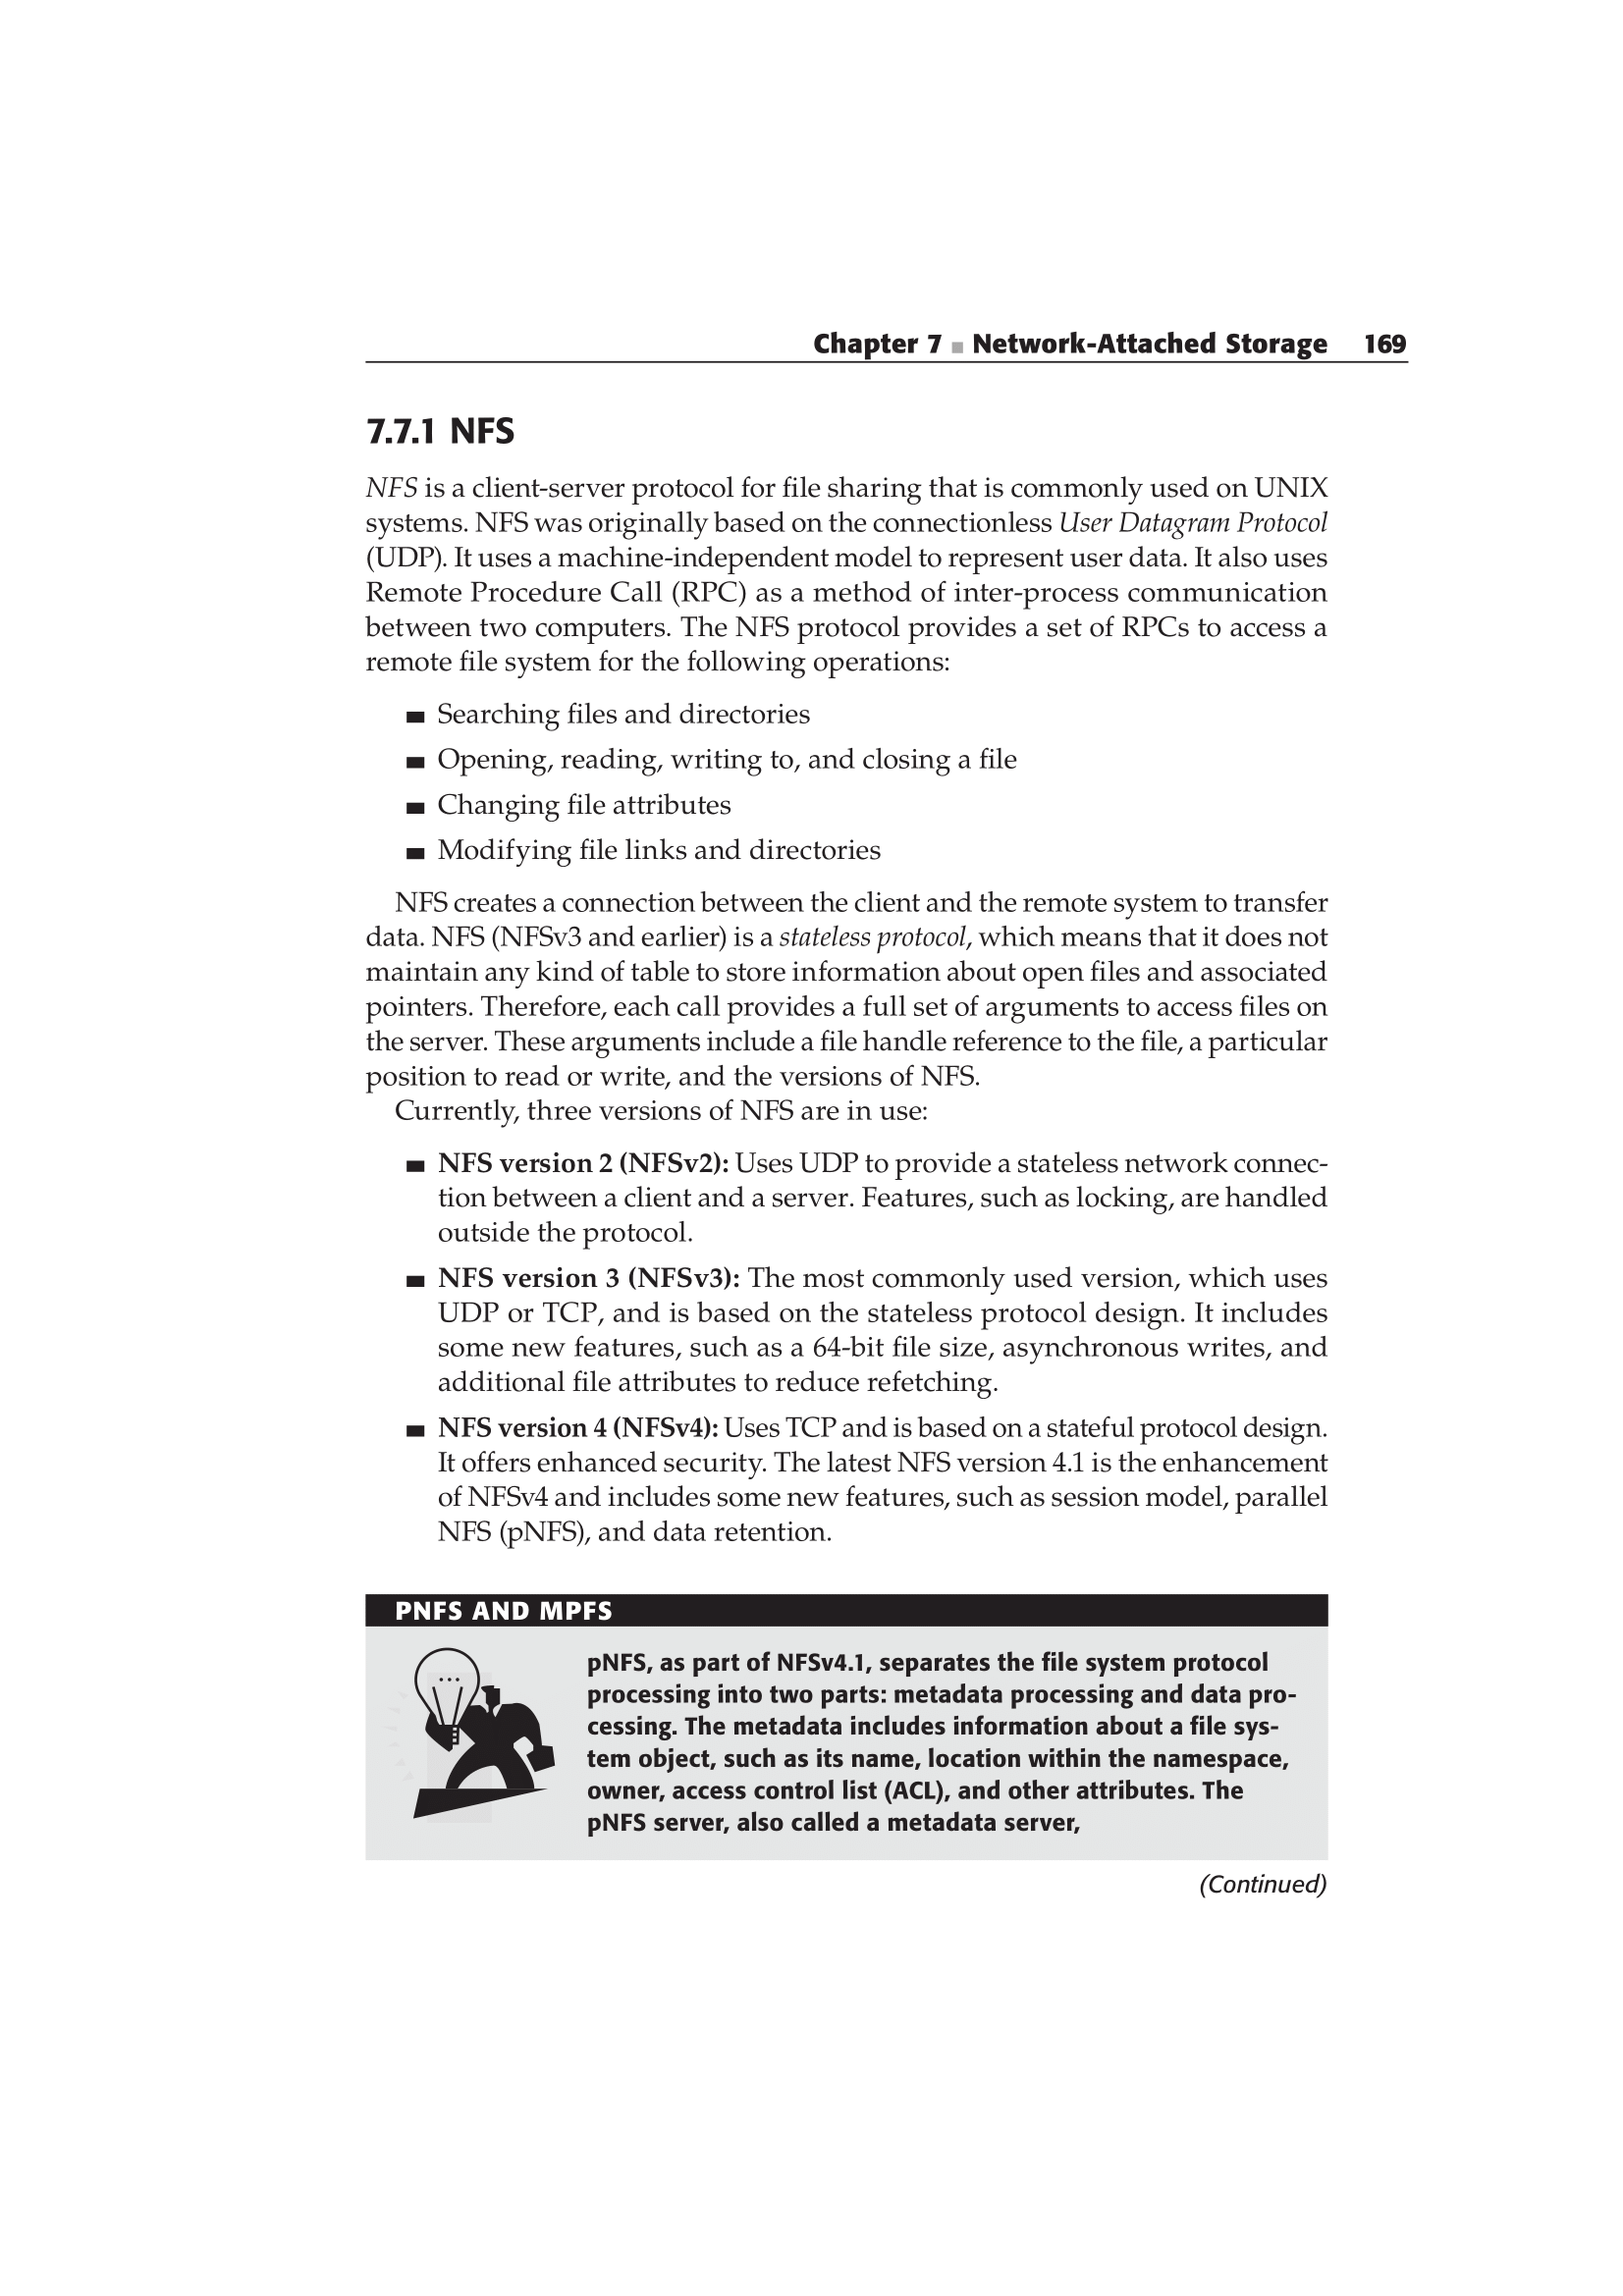Image: (381, 1638, 566, 1831)
Paragraph: (276, 892, 1409, 1130), (263, 465, 1388, 674), (566, 1643, 1337, 1843), (372, 1257, 1349, 1404), (369, 1408, 1345, 1555), (385, 1144, 1333, 1245), (768, 277, 1475, 372), (348, 837, 1031, 885), (335, 783, 1019, 830), (335, 695, 1019, 741), (348, 737, 1031, 783), (306, 1568, 704, 1629), (290, 411, 717, 448), (1140, 1873, 1396, 1903)
